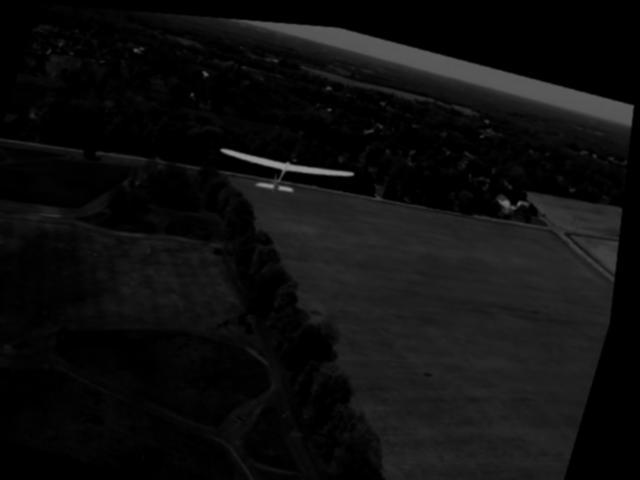hedef: (207, 117, 370, 212)
